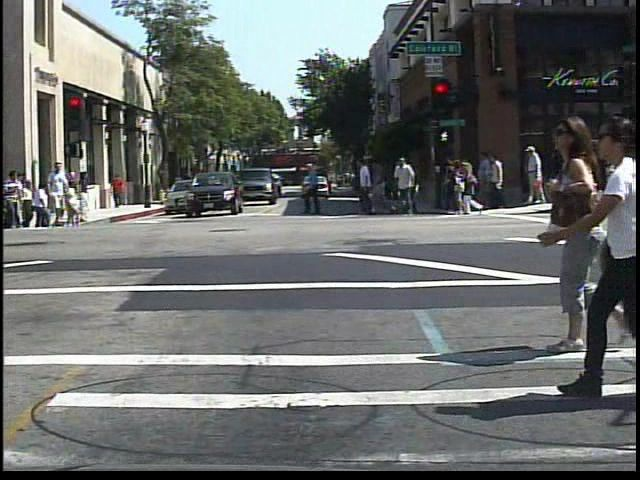person: (553, 109, 637, 401), (540, 112, 610, 353), (45, 163, 72, 230), (4, 166, 26, 232), (527, 145, 546, 205), (110, 174, 128, 211), (170, 169, 188, 199)
